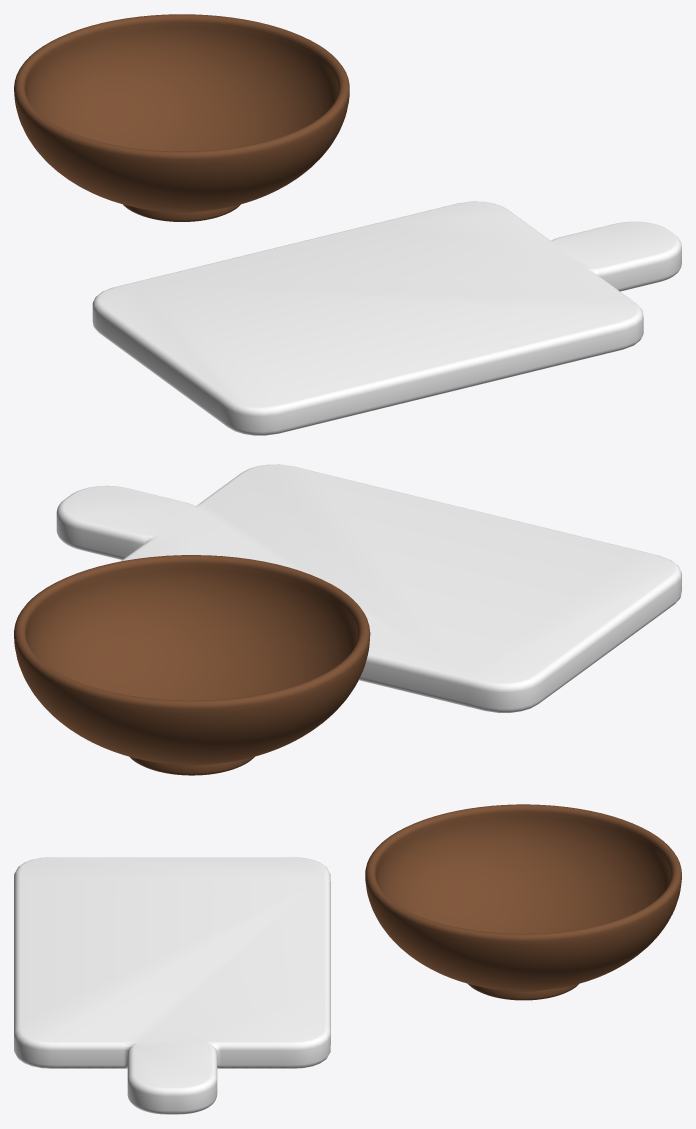
File: form_cookie.glb
3 views of the same model, one above another, from view 1: azimuth 30°, elevation 25°; view 2: azimuth 150°, elevation 25°; view 3: azimuth 270°, elevation 25° (orthographic). The views are drawn at different scales.
Visible parts, largest first — view 1: 반죽판, 볼; view 2: 반죽판, 볼; view 3: 반죽판, 볼.
Part boxes in pixels (x1=…): 반죽판: x1=92, y1=201, x2=681, y2=435; 볼: x1=14, y1=14, x2=349, y2=221; 반죽판: x1=56, y1=464, x2=681, y2=712; 볼: x1=14, y1=555, x2=370, y2=775; 반죽판: x1=14, y1=857, x2=330, y2=1114; 볼: x1=365, y1=804, x2=681, y2=1000.
Bounding box in the file's own units: 0.422 × 0.089 × 0.506.
